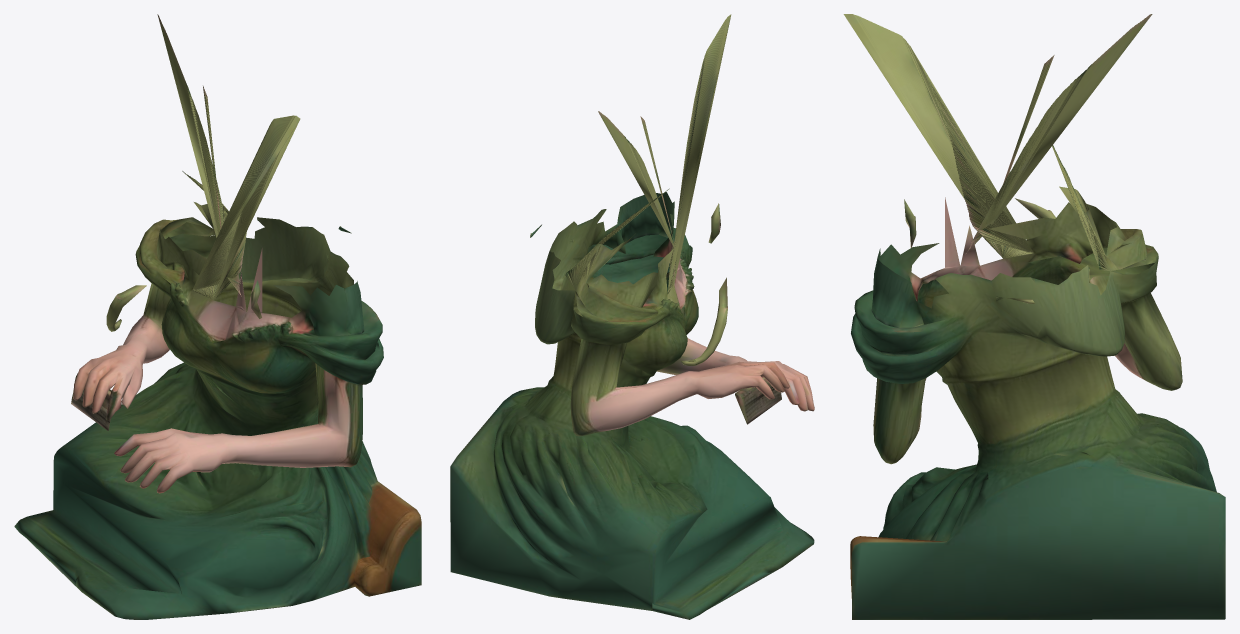
The picture shows the model from 3 angles, left to right: view 1: azimuth 30°, elevation 25°; view 2: azimuth 150°, elevation 25°; view 3: azimuth 270°, elevation 25°; orthographic projection. The views are drawn at different scales.
Visible parts, largest first — view 1: material; view 2: material; view 3: material.
Boxes of the visible parts, box(x1,y1,x2,y2) form: material: box(14, 14, 421, 619); material: box(450, 14, 814, 619); material: box(843, 14, 1225, 619).
Bounding box in the file's own units: 1.06 × 1.9 × 1.22.
1 material, 1 textured.
